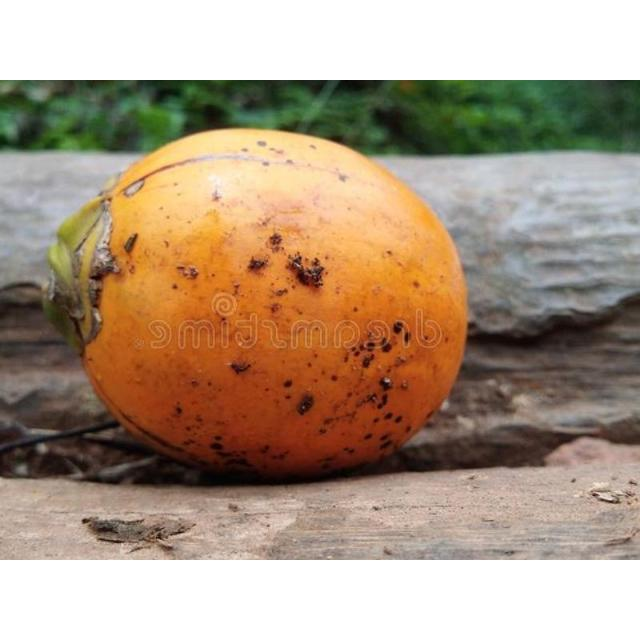good: (42, 127, 470, 485)
